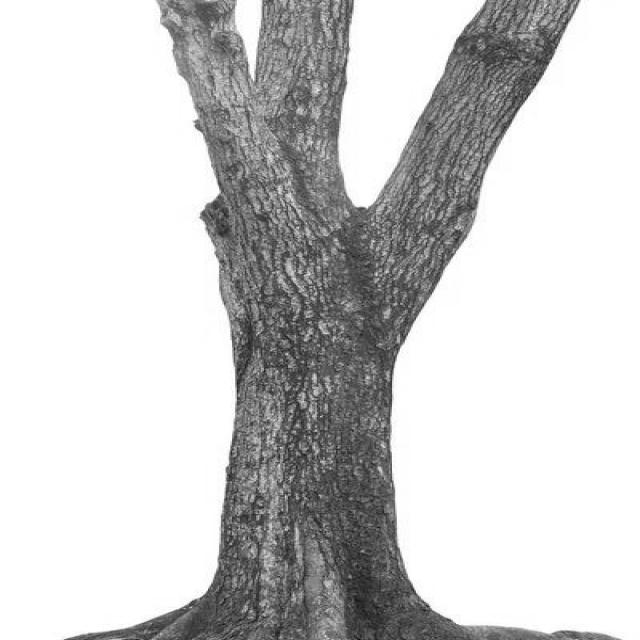Tree: (76, 0, 579, 639)
